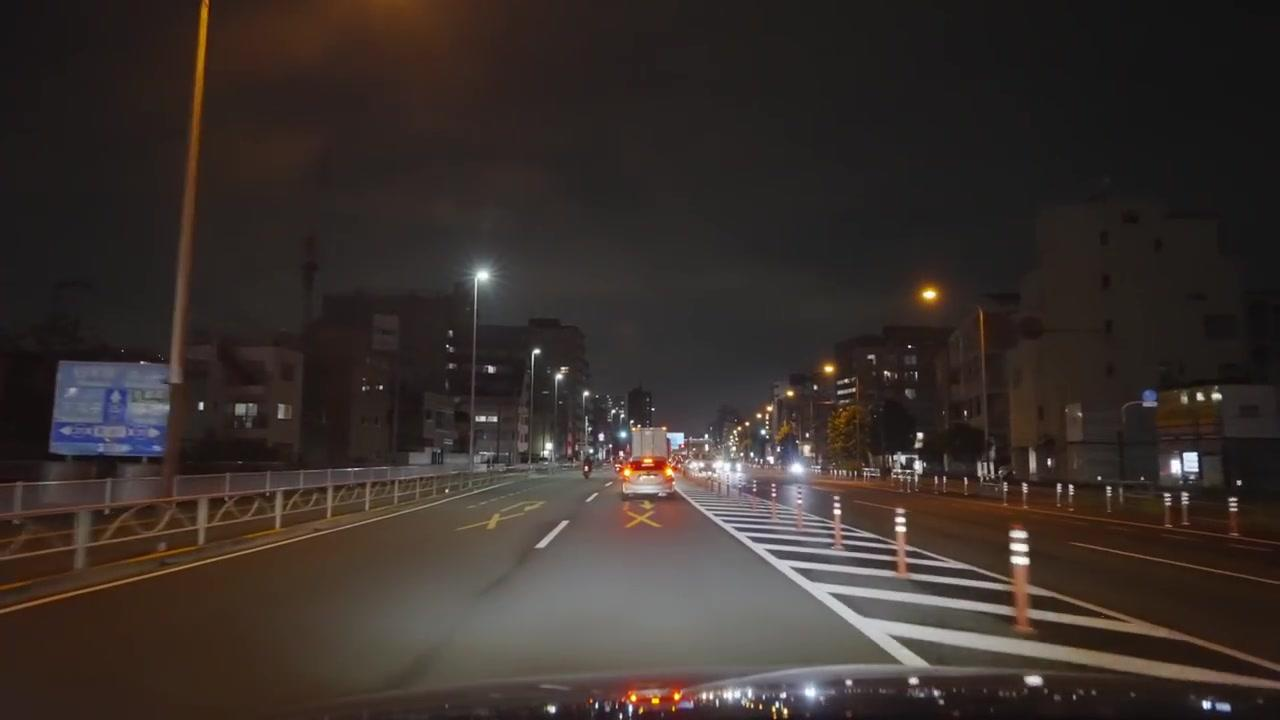bus: (620, 450, 676, 499)
car: (621, 452, 675, 500)
person: (582, 459, 591, 480)
